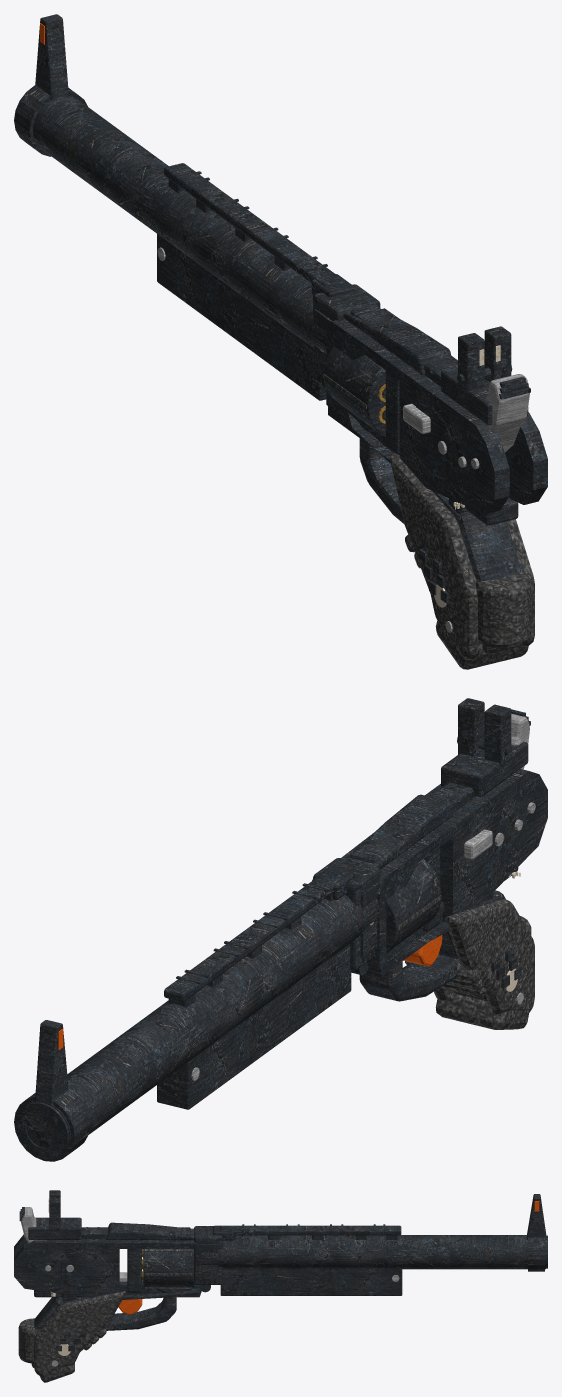
Rendered from fang.glb.
The picture shows the model from 3 angles, top to bottom: view 1: azimuth 30°, elevation 25°; view 2: azimuth 150°, elevation 25°; view 3: azimuth 270°, elevation 25°; orthographic projection. The views are drawn at different scales.
Parts seen in each view (by area): view 1: body | blued steel, body | rubber, body | black oxide, mag | blued steel, bolt | satin steel, body | satin steel; view 2: body | blued steel, body | rubber, mag | blued steel, body | black oxide, body | satin steel, bolt | satin steel, trigger | sight orange; view 3: body | blued steel, body | rubber, mag | blued steel, body | black oxide, bolt | satin steel, mag | rubber, trigger | sight orange.
Part boxes in pixels (bbox=[...]): body | blued steel: bbox=[14, 14, 547, 578]; body | rubber: bbox=[390, 453, 534, 669]; body | black oxide: bbox=[176, 171, 522, 653]; mag | blued steel: bbox=[323, 346, 385, 435]; bolt | satin steel: bbox=[438, 374, 529, 454]; body | satin steel: bbox=[157, 247, 479, 632]; body | blued steel: bbox=[14, 698, 547, 1161]; body | rubber: bbox=[405, 899, 534, 1029]; mag | blued steel: bbox=[351, 859, 441, 975]; body | black oxide: bbox=[26, 737, 521, 1147]; body | satin steel: bbox=[191, 802, 535, 1080]; bolt | satin steel: bbox=[495, 713, 529, 846]; trigger | sight orange: bbox=[404, 935, 442, 966]; body | blued steel: bbox=[14, 1190, 547, 1330]; body | rubber: bbox=[18, 1291, 125, 1382]; mag | blued steel: bbox=[143, 1249, 210, 1292]; body | black oxide: bbox=[31, 1221, 385, 1367]; bolt | satin steel: bbox=[21, 1207, 73, 1272]; mag | rubber: bbox=[145, 1249, 192, 1288]; trigger | sight orange: bbox=[118, 1299, 142, 1314].
Size of the model in its own units: 0.051 by 0.2074 by 0.561.
7 materials, 7 textured.
